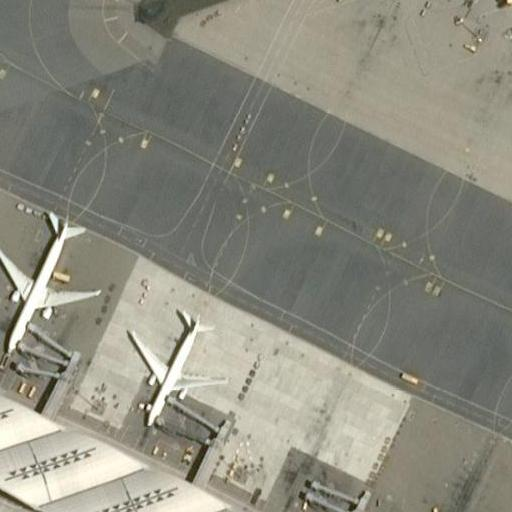Aircraft: (0, 198, 104, 353), (0, 204, 103, 356), (118, 299, 225, 433), (123, 299, 225, 428)
